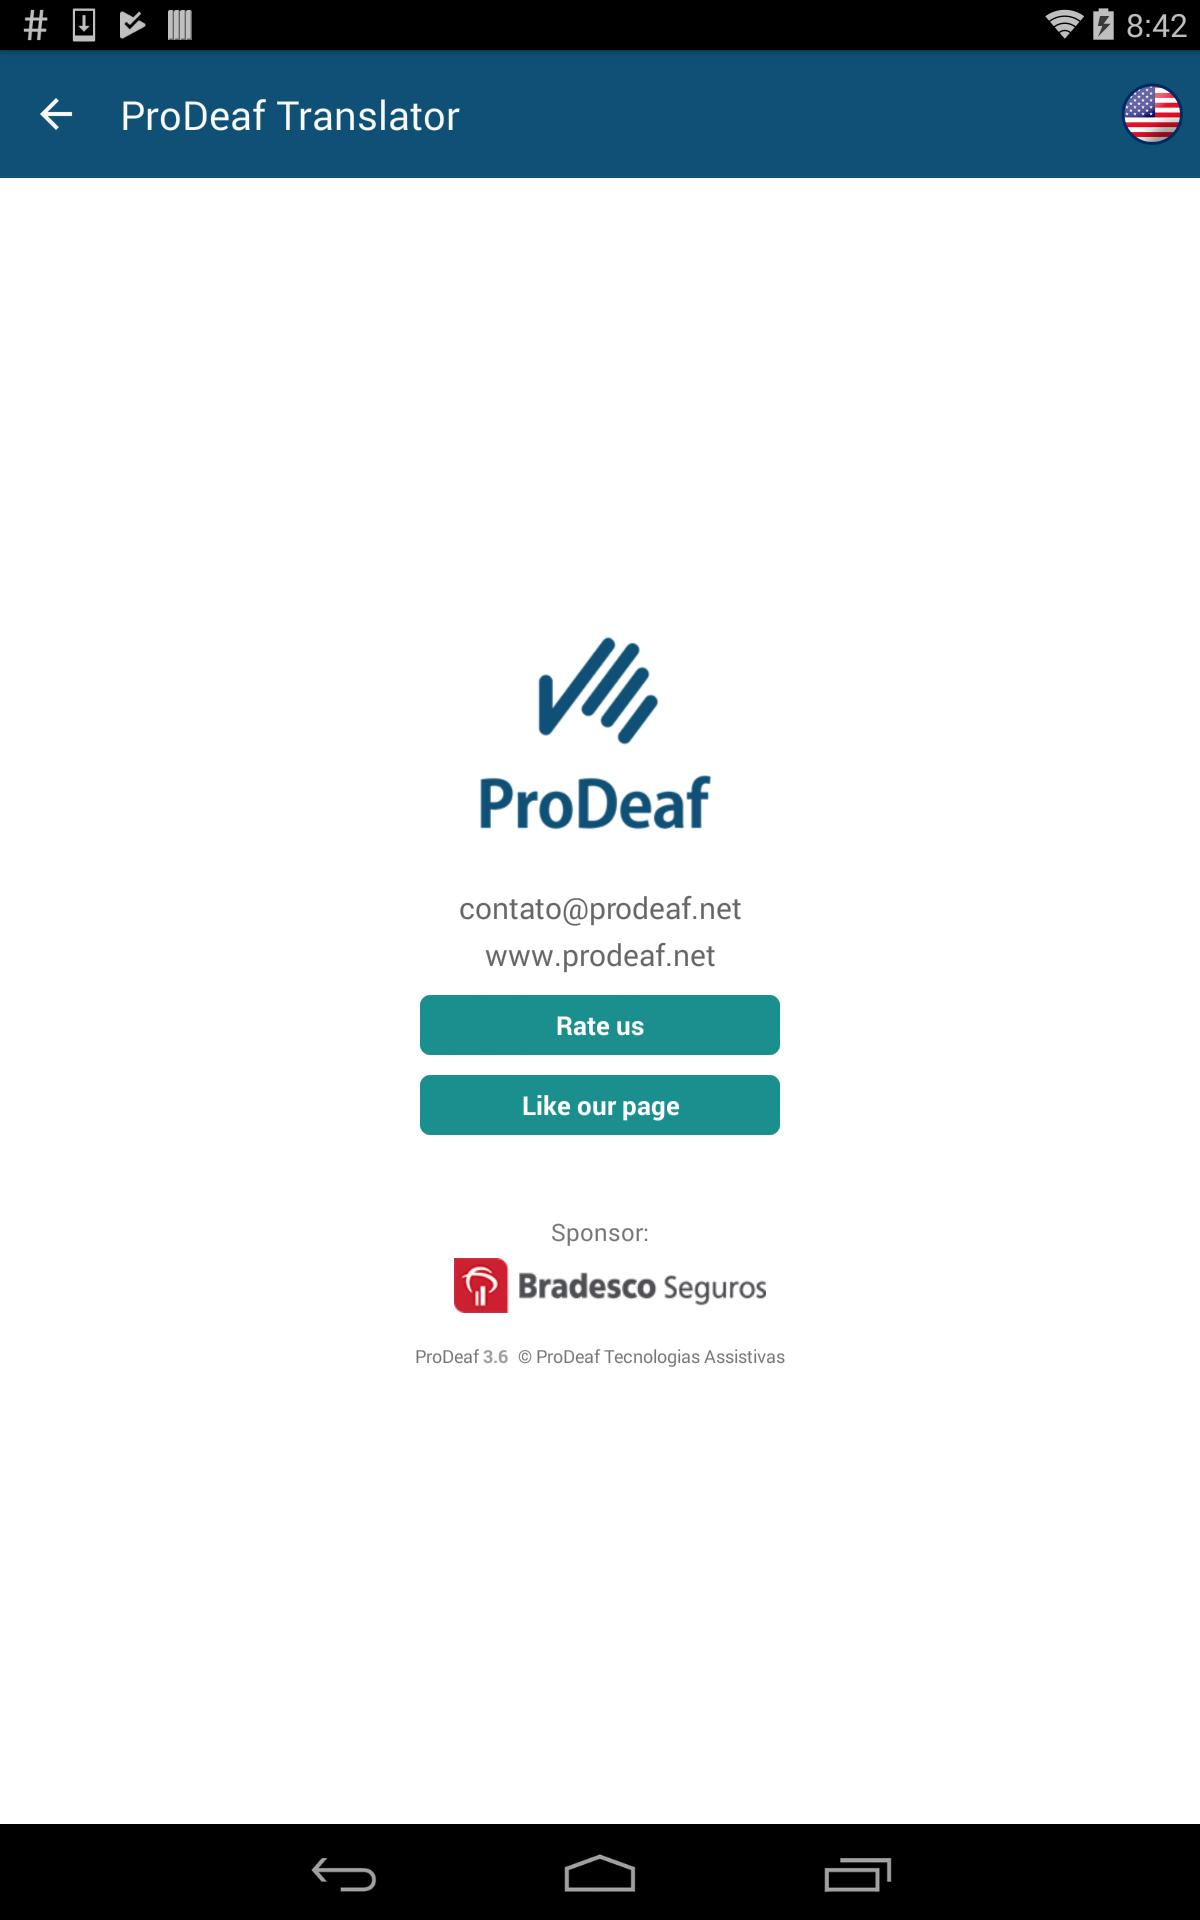android.support.v4.widget.DrawerLayout: (0, 50, 1200, 1825)
android.support.v7.widget.LinearLayoutCompat: (1105, 58, 1200, 170)
android.view.View: (0, 50, 1200, 178), (71, 1156, 1129, 1205)
android.widget.Button: (420, 995, 780, 1055), (420, 1075, 780, 1135)
android.widget.FrameLayout: (0, 0, 1200, 1825), (0, 50, 1200, 1825), (0, 178, 1200, 1825)
android.widget.ImageButton: (0, 58, 112, 170)
android.widget.ImageView: (394, 633, 806, 874), (453, 1258, 766, 1313)
android.widget.LinearLayout: (0, 0, 1200, 1825), (0, 50, 1200, 1825), (0, 178, 1200, 1825), (71, 1344, 1129, 1368)
android.widget.TextView: (71, 887, 1129, 928), (71, 934, 1129, 975), (120, 87, 460, 141), (1105, 66, 1200, 162), (518, 1344, 785, 1368), (552, 1215, 648, 1248), (415, 1344, 478, 1368), (482, 1344, 507, 1368)
